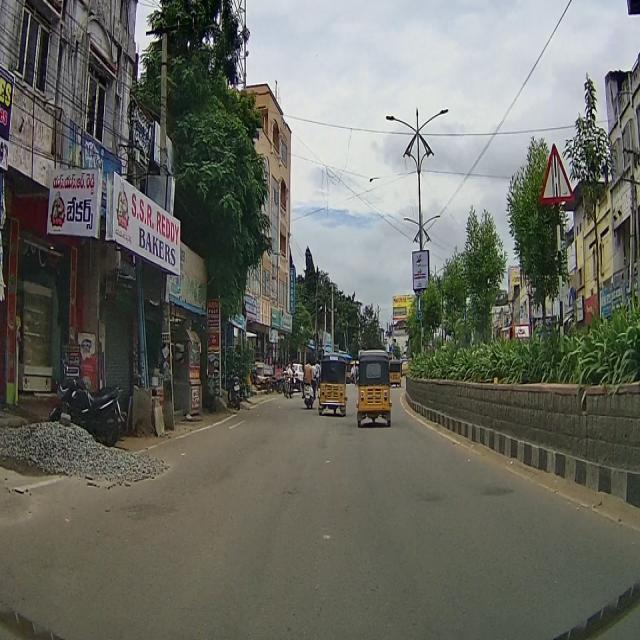gap-in-median: (540, 144, 573, 200)
